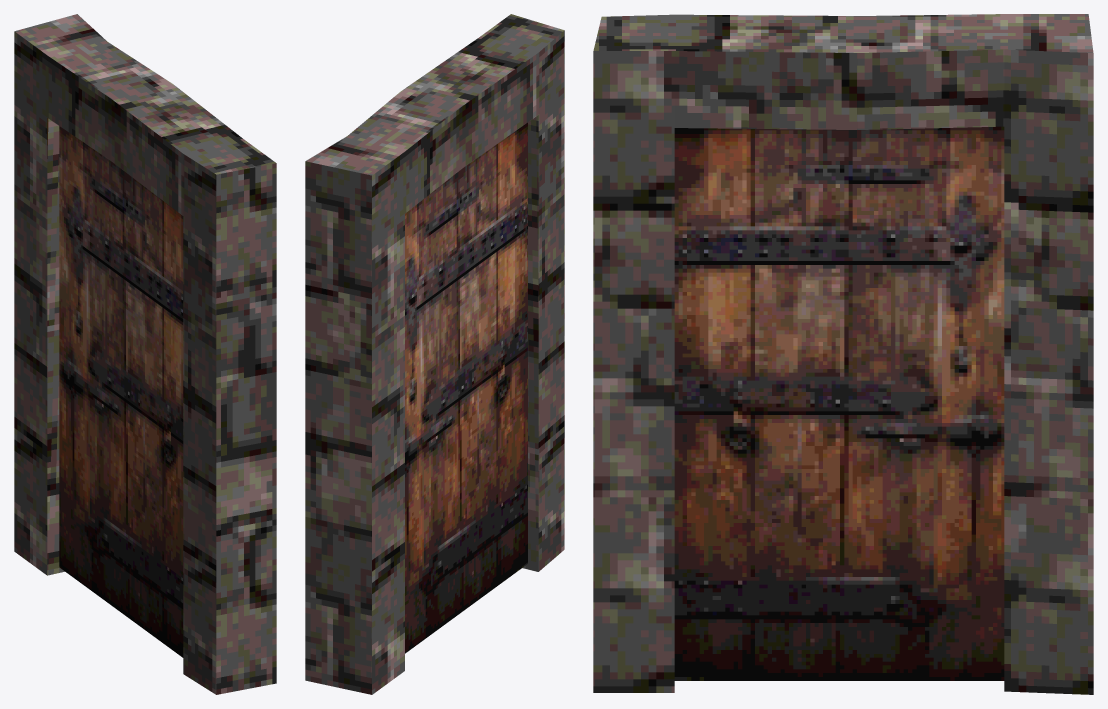
The model's file is door.glb.
The picture shows the model from 3 angles, left to right: view 1: azimuth 30°, elevation 25°; view 2: azimuth 150°, elevation 25°; view 3: azimuth 270°, elevation 25°; orthographic projection. The views are drawn at different scales.
Parts seen in each view (by area): view 1: Cube.001, Cube; view 2: Cube.001, Cube; view 3: Cube, Cube.001.
Part boxes in pixels (left/top/right/bottom): Cube.001: left=14, top=14, right=276, bottom=694; Cube: left=59, top=126, right=183, bottom=657; Cube.001: left=305, top=14, right=564, bottom=694; Cube: left=405, top=122, right=527, bottom=653; Cube: left=674, top=126, right=1004, bottom=680; Cube.001: left=593, top=14, right=1093, bottom=694.
Size of the model in its own units: 0.8059 by 6.17 by 4.36.
1 material, 1 textured.
